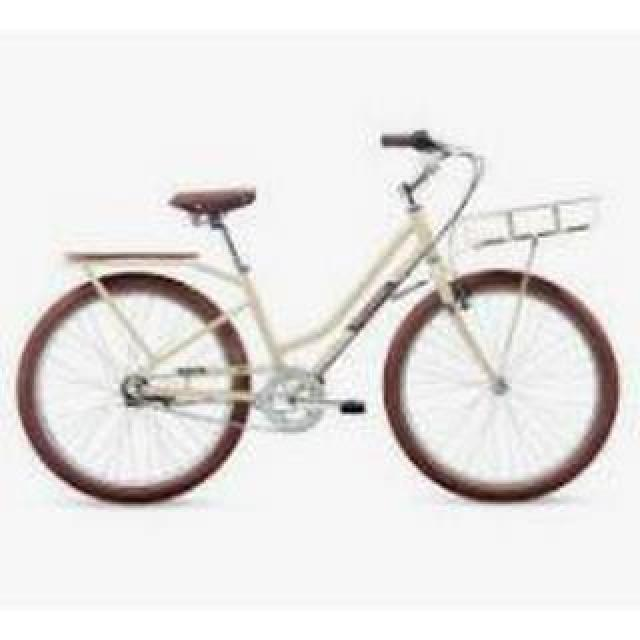Person: (10, 118, 624, 534)
